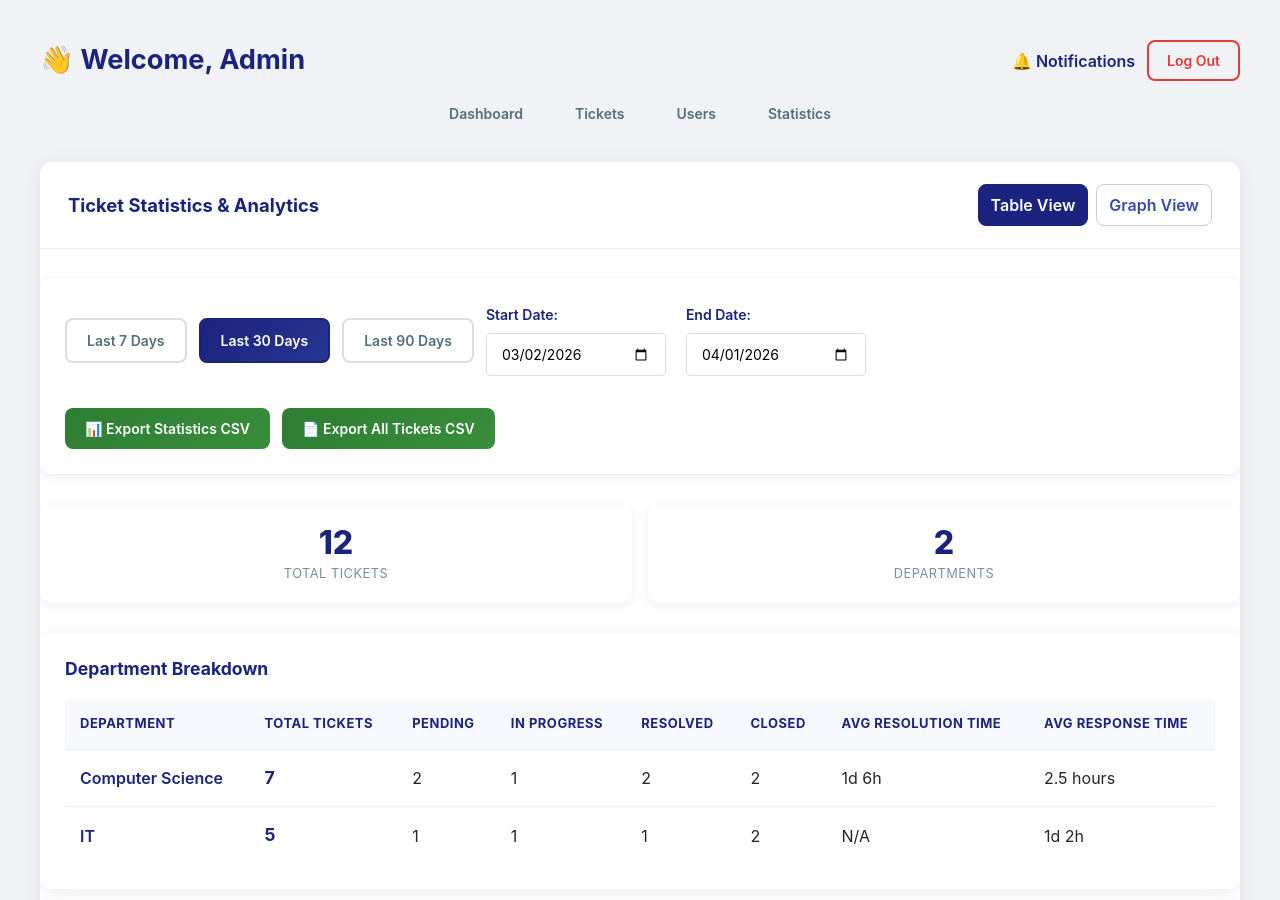
Test: Statistics › toggles to graph view and renders status, department and priority charts
Check: the heading "Ticket Statistics & Analytics" is shown, box [68,194,319,216]
Click the button "Graph View" at (1154, 205), box [1096,184,1212,226]
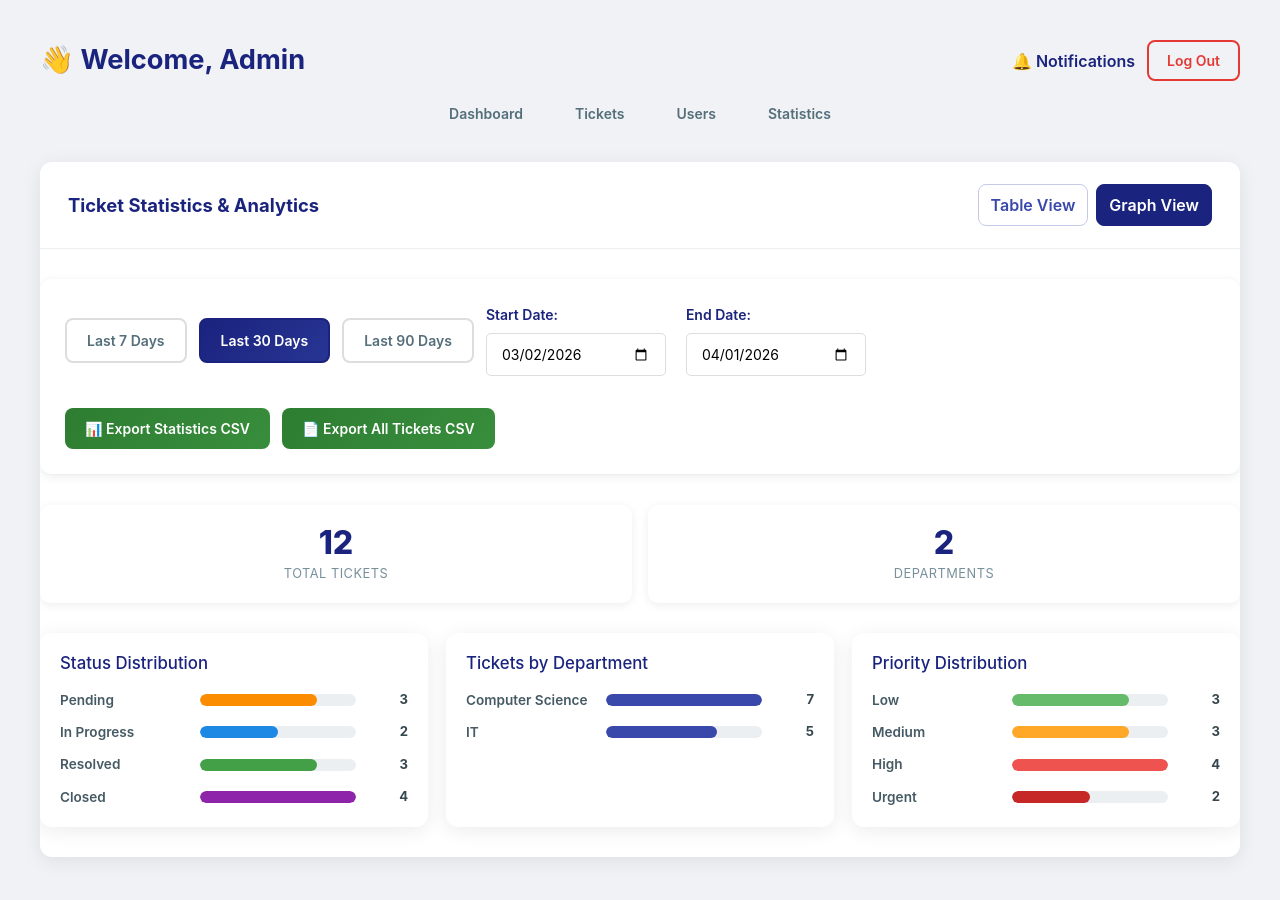
Check: the heading "Priority Distribution" is shown, box [872,653,1027,673]
Check: the heading "Status Distribution" is shown, box [60,653,208,673]
Check: the heading "Tickets by Department" is shown, box [466,653,648,673]
